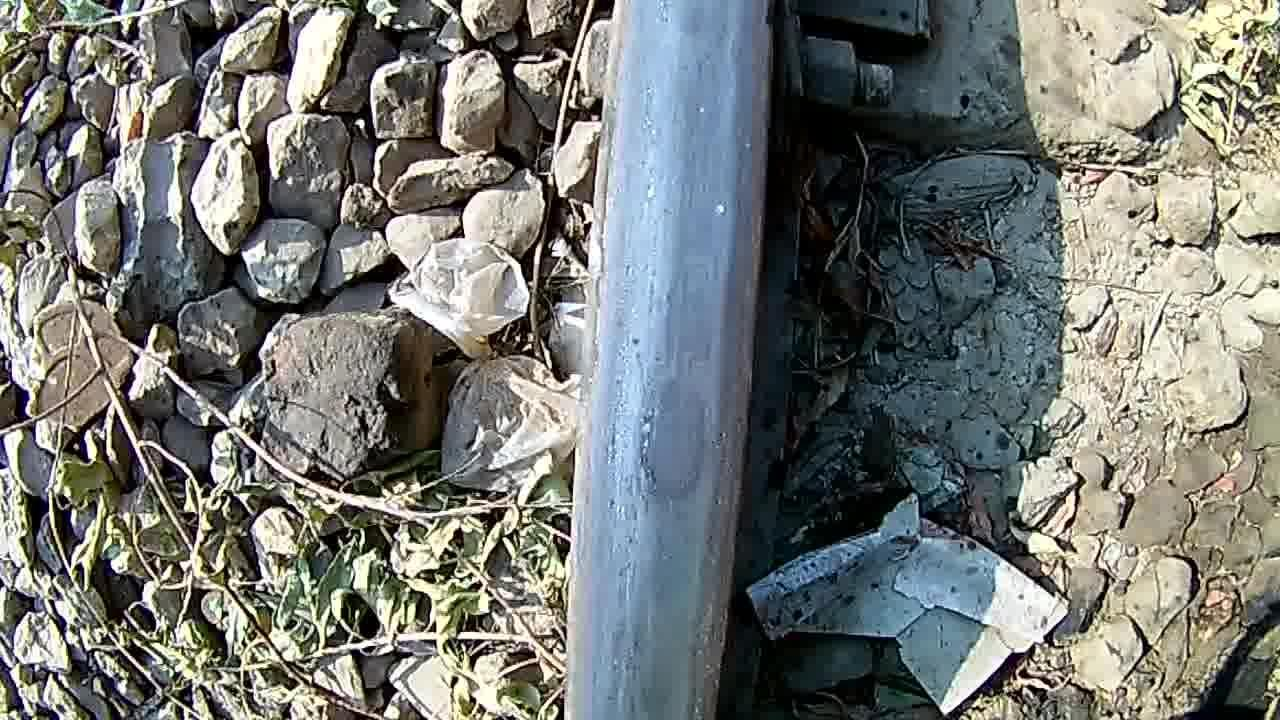crack: (623, 2, 746, 720)
